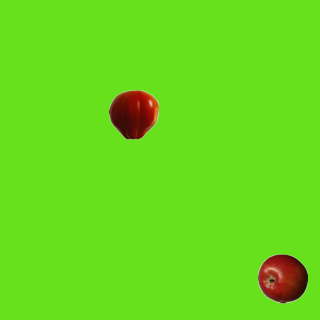Apple Braeburn: (257, 253, 307, 303)
Tomato 1: (108, 89, 158, 139)
